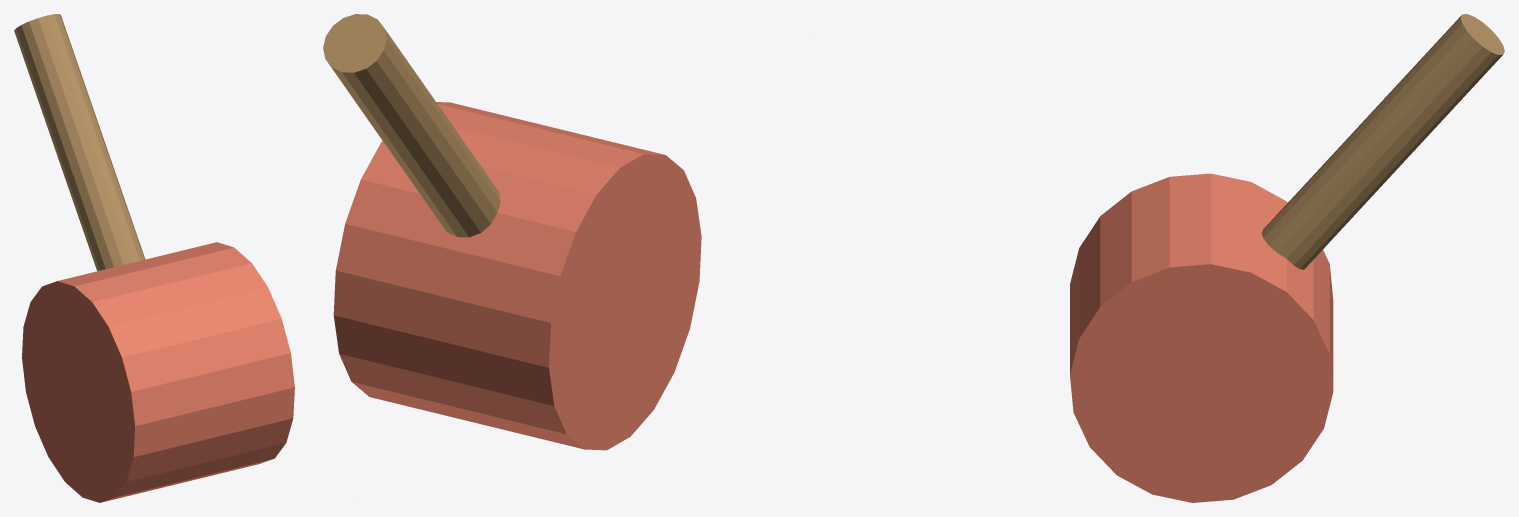
Rendered from mallet_3tou_3d.glb.
3 views of the same model, side by side, from view 1: azimuth 30°, elevation 25°; view 2: azimuth 150°, elevation 25°; view 3: azimuth 270°, elevation 25° (orthographic). The views are drawn at different scales.
Parts seen in each view (by area): view 1: mallet_head, mallet_handle; view 2: mallet_head, mallet_handle; view 3: mallet_head, mallet_handle.
Part boxes in pixels (box(x1,y1,x2,y2)): mallet_head: box(22, 242, 294, 502); mallet_handle: box(14, 14, 145, 271); mallet_head: box(333, 102, 701, 450); mallet_handle: box(323, 14, 500, 237); mallet_head: box(1070, 173, 1333, 502); mallet_handle: box(1261, 14, 1504, 269).
Bounding box in the file's own units: 0.26 × 0.5881 × 0.8068.
5 materials, 2 textured.
